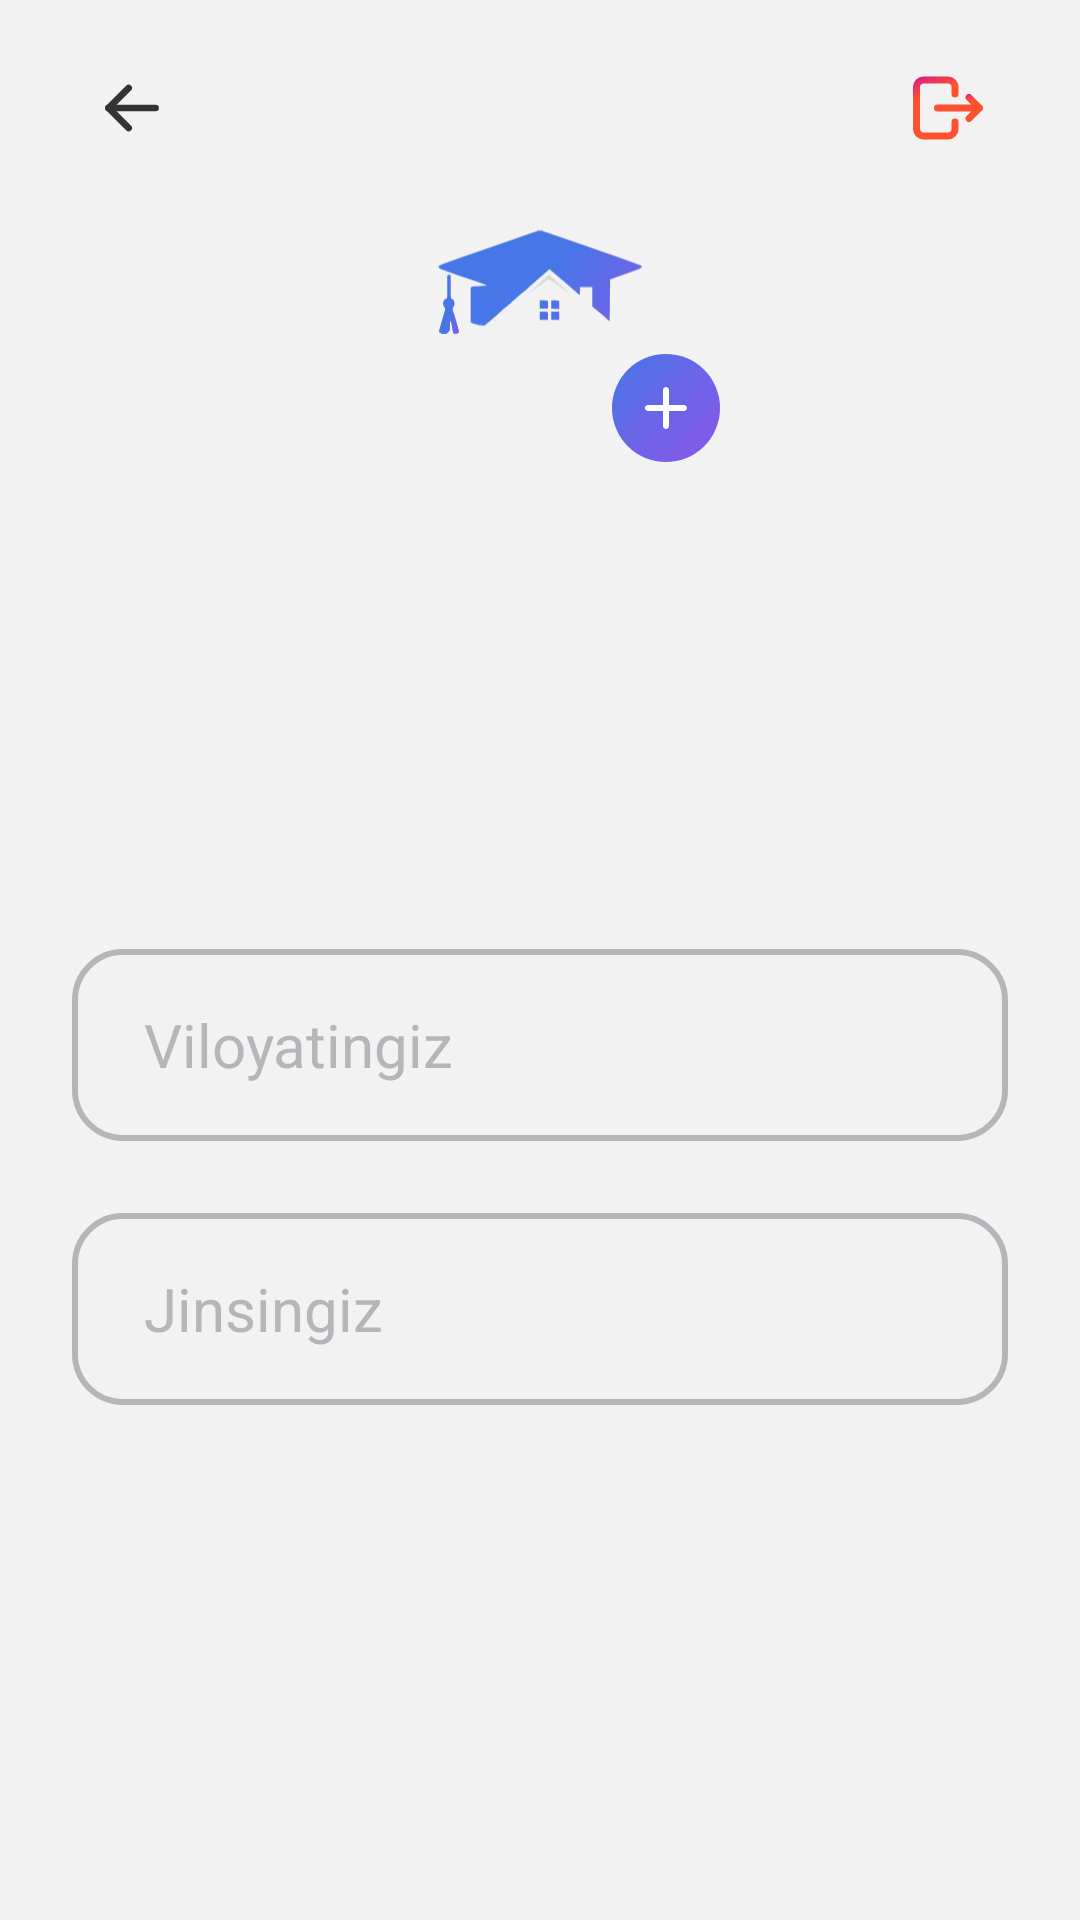

Where to tap for icons on this 1080px×1920px app screen, as [x,y]:
add: [666,408]
back: [132,108]
